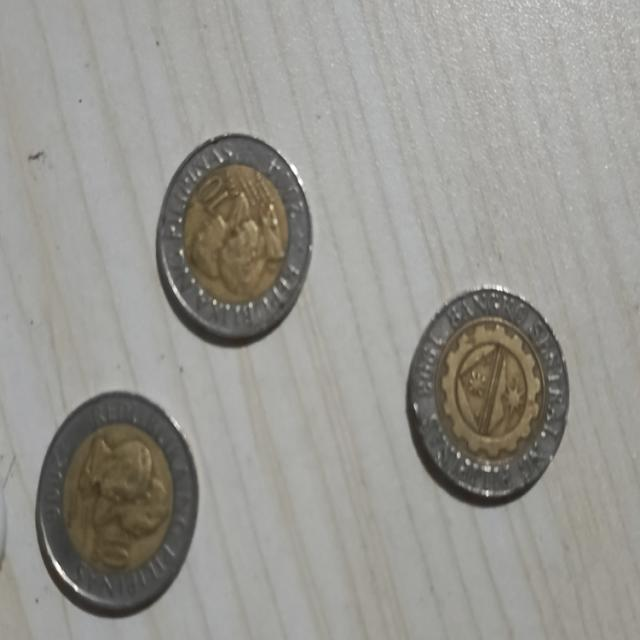10_peso: (36, 393, 198, 615), (408, 288, 568, 501), (158, 135, 312, 341)
